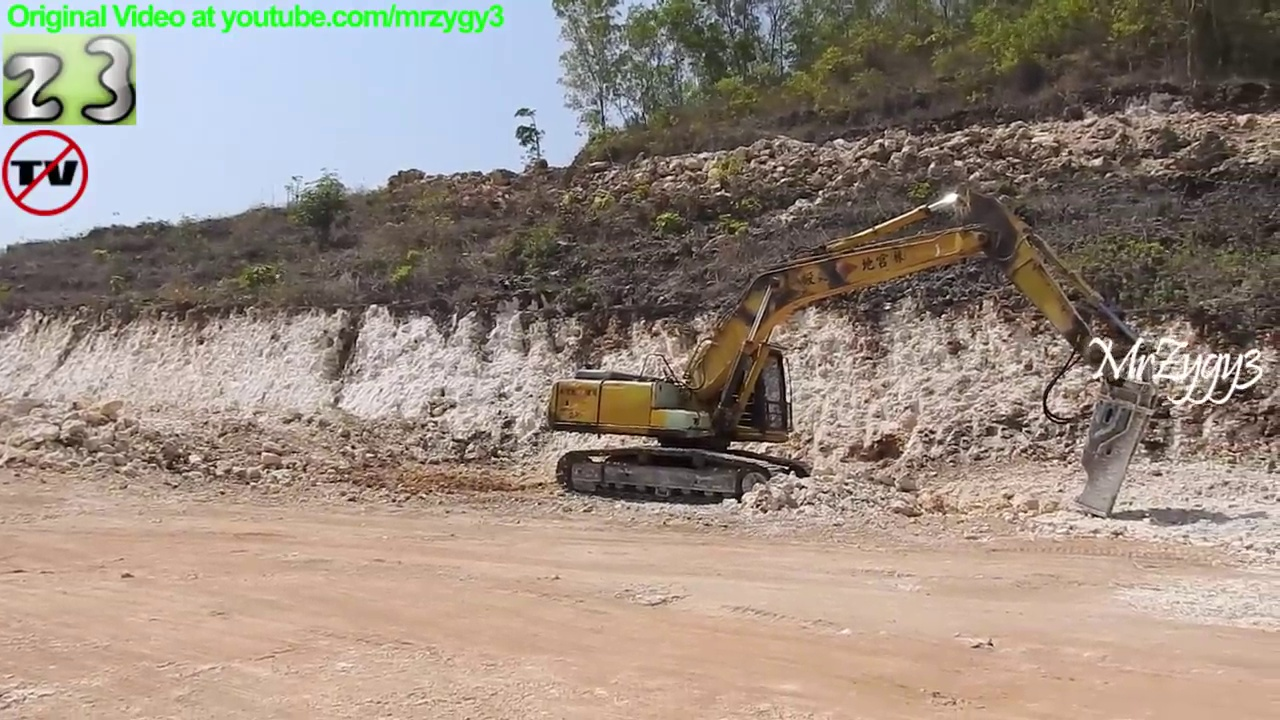excavator breaker: (538, 183, 1167, 528)
